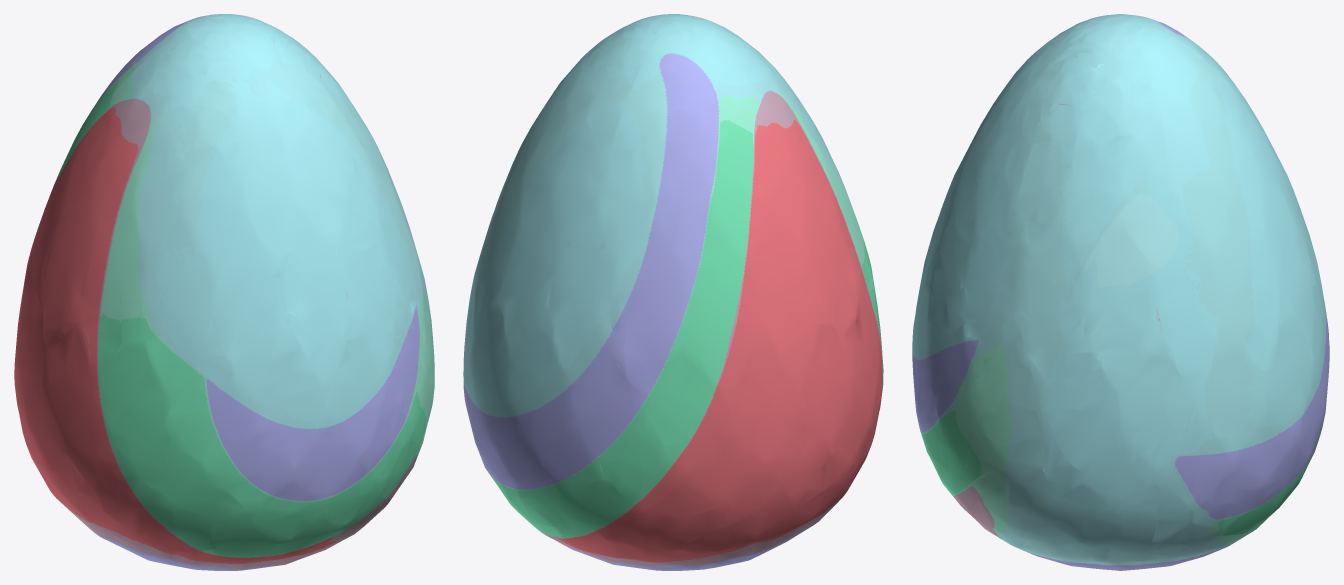
Rendered from rock4.glb.
3 renders of one model, left to right at view 1: azimuth 30°, elevation 25°; view 2: azimuth 150°, elevation 25°; view 3: azimuth 270°, elevation 25°, orthographic.
Visible parts, largest first — view 1: Mesh_0; view 2: Mesh_0; view 3: Mesh_0.
Boxes of the visible parts, x1,y1,x2,y2 form: Mesh_0: (14, 14, 434, 570); Mesh_0: (463, 14, 883, 570); Mesh_0: (912, 14, 1329, 570).
Size of the model in its own units: 1.36 by 1.9 by 1.36.
Materials: 1 (1 with a texture image).
